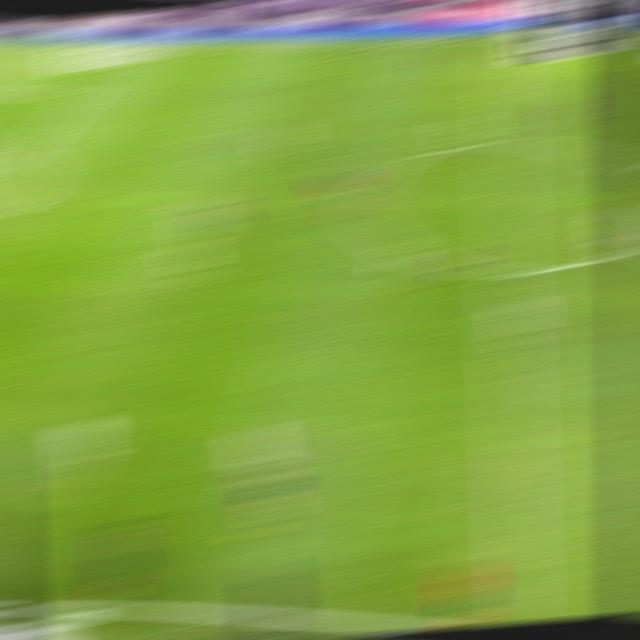bigarea_top_inner: (65, 87, 101, 102)
halfcircle_bottom: (487, 254, 526, 284)
halfcircle_top: (484, 128, 525, 155)
midline_top_intersection: (485, 31, 518, 43)
top_arc_area_intersection: (6, 143, 40, 158)
